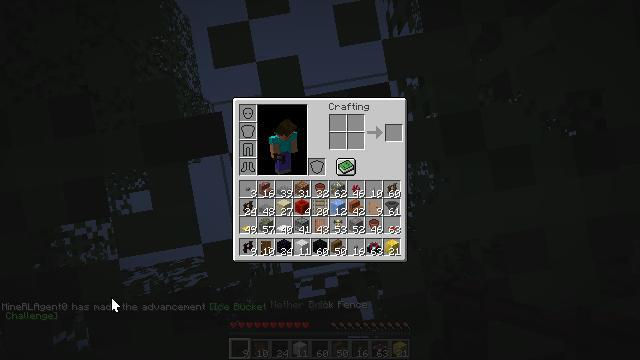cursor: (111, 297, 121, 313)
